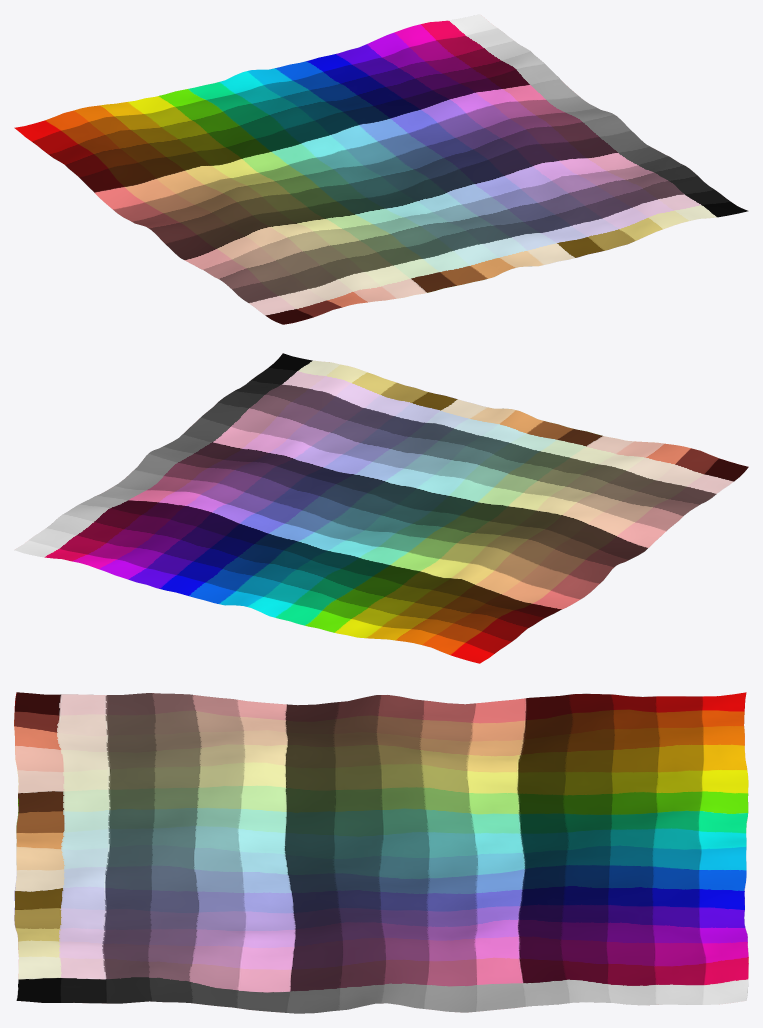
File: ocean_with_waves_.fbx
The picture shows the model from 3 angles, top to bottom: view 1: azimuth 30°, elevation 25°; view 2: azimuth 150°, elevation 25°; view 3: azimuth 270°, elevation 25°; orthographic projection. The views are drawn at different scales.
Visible parts, largest first — view 1: Plane; view 2: Plane; view 3: Plane.
Part boxes in pixels (x1=…): Plane: x1=14, y1=14, x2=748, y2=324; Plane: x1=14, y1=353, x2=748, y2=663; Plane: x1=14, y1=692, x2=748, y2=1013.
Size of the model in its own units: 50348 by 1479 by 50334.
